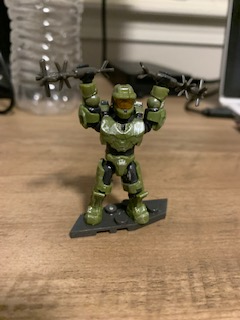chief: (72, 64, 171, 225)
spartan: (70, 62, 169, 223)
up: (74, 65, 172, 155)
